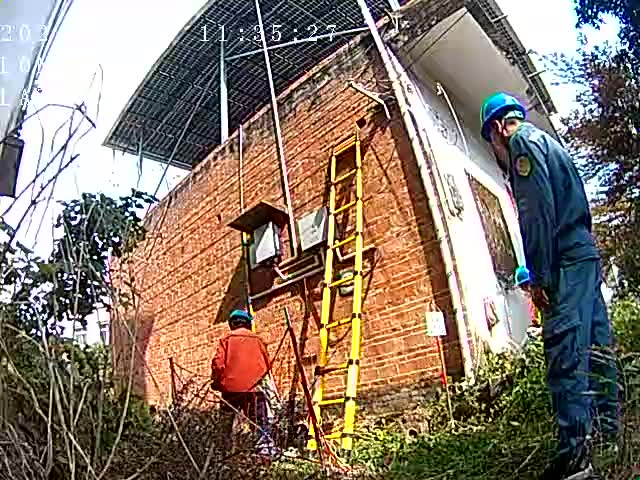downsuit: (530, 260, 617, 451)
halt: (481, 92, 526, 144), (513, 265, 537, 290), (229, 310, 254, 331)
hand: (530, 288, 550, 313)
inear: (491, 115, 511, 139)
person: (478, 90, 618, 480), (208, 309, 272, 444)
sleeve: (513, 152, 533, 179)
upsuit: (505, 121, 597, 265)
yupsuit: (212, 327, 273, 395)
